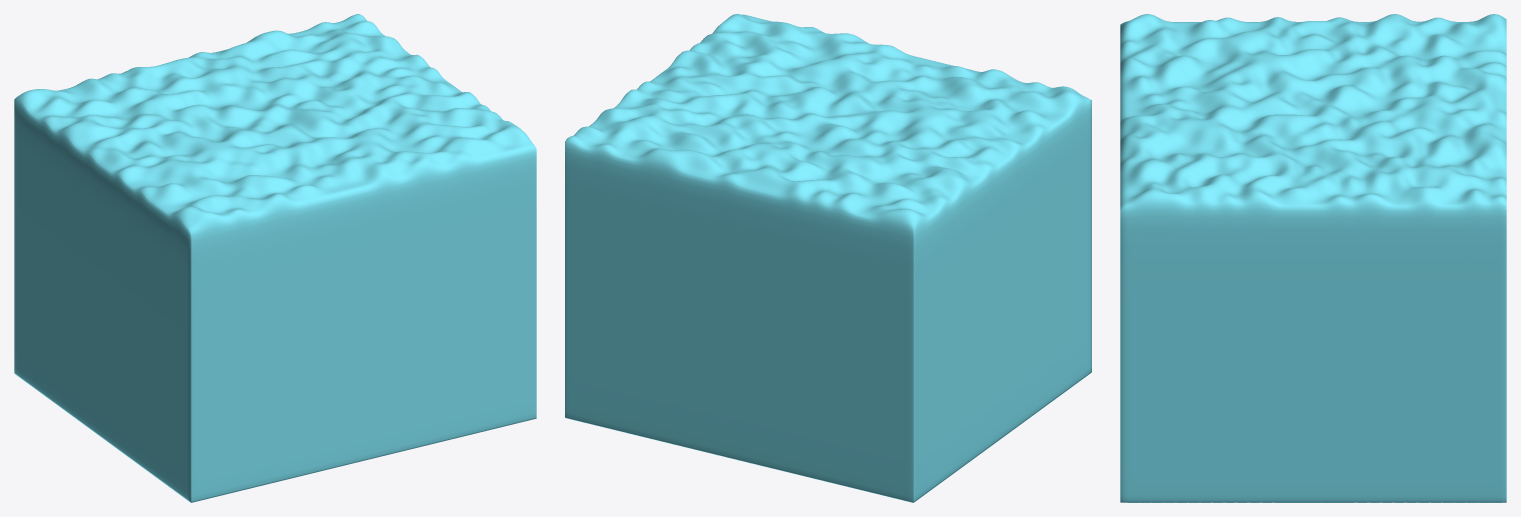
Rendered from water.fbx.
3 views of the same model, side by side, from view 1: azimuth 30°, elevation 25°; view 2: azimuth 150°, elevation 25°; view 3: azimuth 270°, elevation 25° (orthographic). The views are drawn at different scales.
Visible parts, largest first — view 1: Water; view 2: Water; view 3: Water.
Boxes of the visible parts, bbox=[...] form: Water: bbox=[14, 14, 536, 502]; Water: bbox=[565, 14, 1091, 502]; Water: bbox=[1120, 14, 1506, 502].
Bounding box in the file's own units: 32.08 × 25.25 × 28.46.
